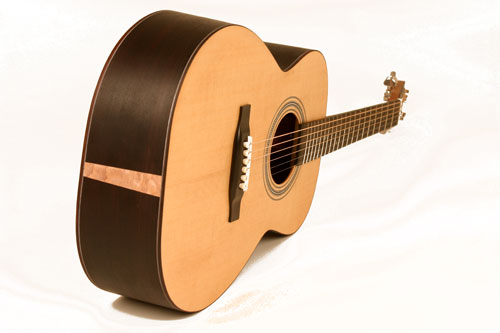guitar: (65, 6, 412, 317)
